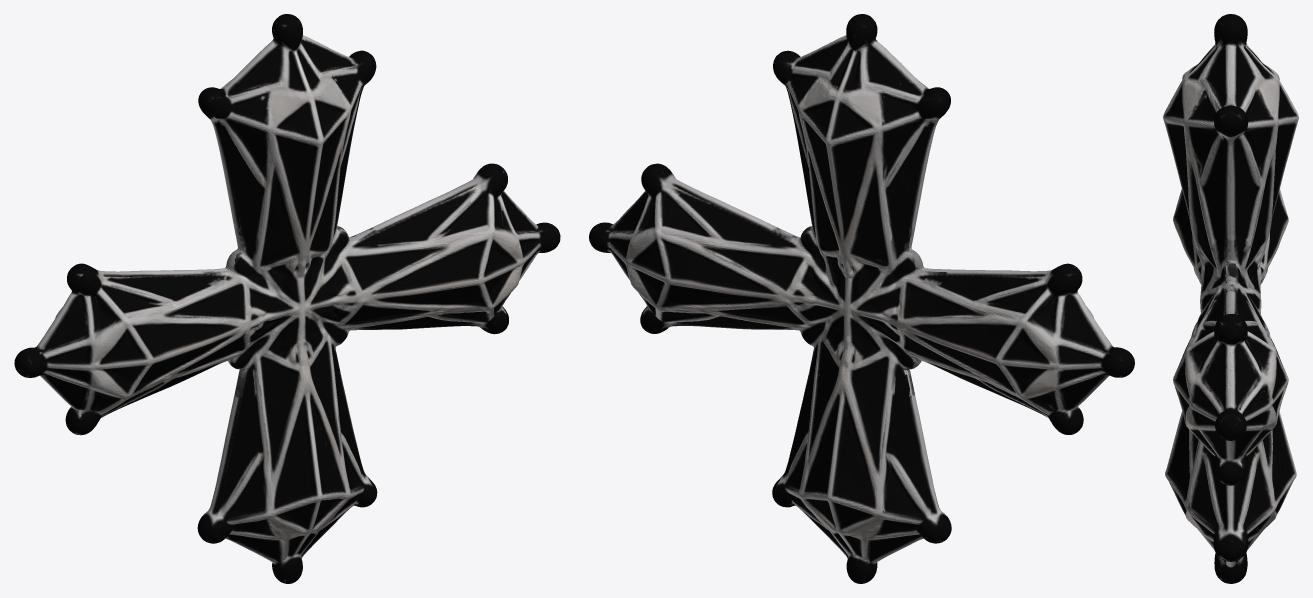
The model's file is hero-ring.glb.
3 renders of one model, left to right at view 1: azimuth 30°, elevation 25°; view 2: azimuth 150°, elevation 25°; view 3: azimuth 270°, elevation 25°, orthographic.
Parts seen in each view (by area): view 1: geometry_0; view 2: geometry_0; view 3: geometry_0.
Boxes of the visible parts, left/top/right/bottom form: geometry_0: left=14, top=14, right=560, bottom=583; geometry_0: left=589, top=14, right=1134, bottom=583; geometry_0: left=1163, top=14, right=1298, bottom=583.
Size of the model in its own units: 1.99 by 1.99 by 0.4326.
1 material, 1 textured.
